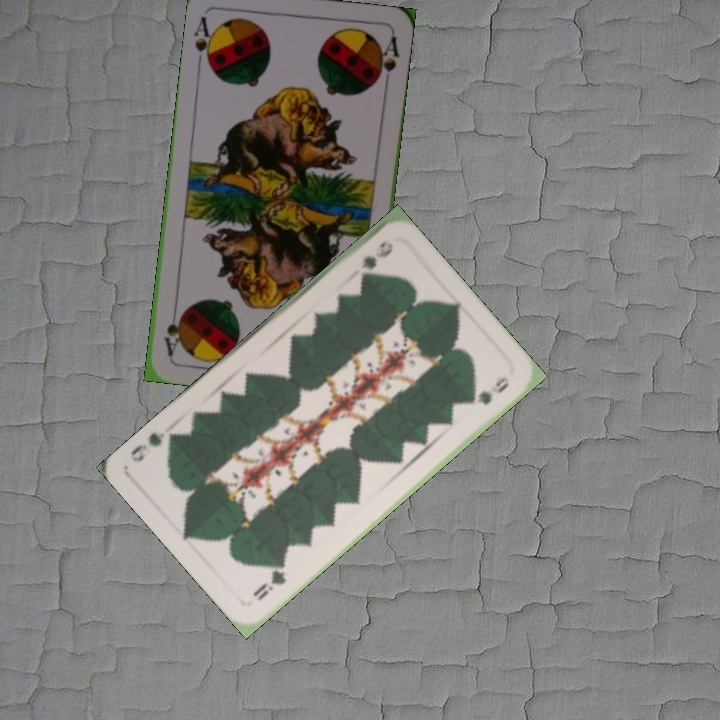G9: (355, 236, 396, 282), (249, 560, 289, 604)
SA: (190, 12, 218, 70)
